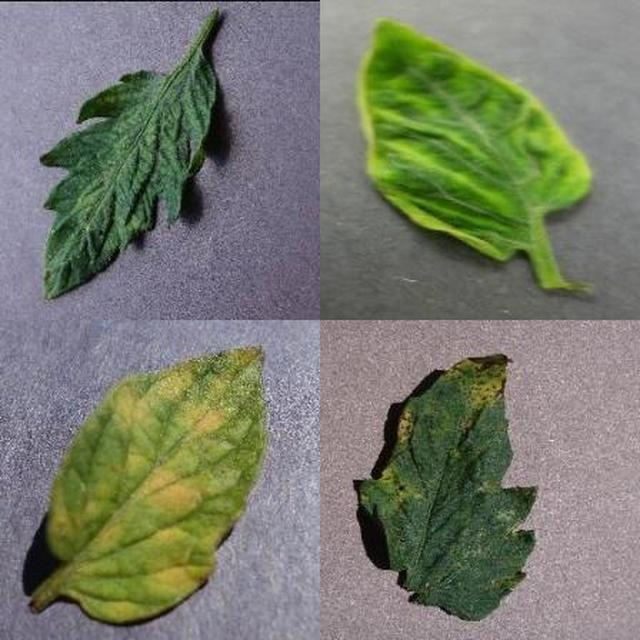Mosaic Virus Leaf: (186, 198, 640, 640)
